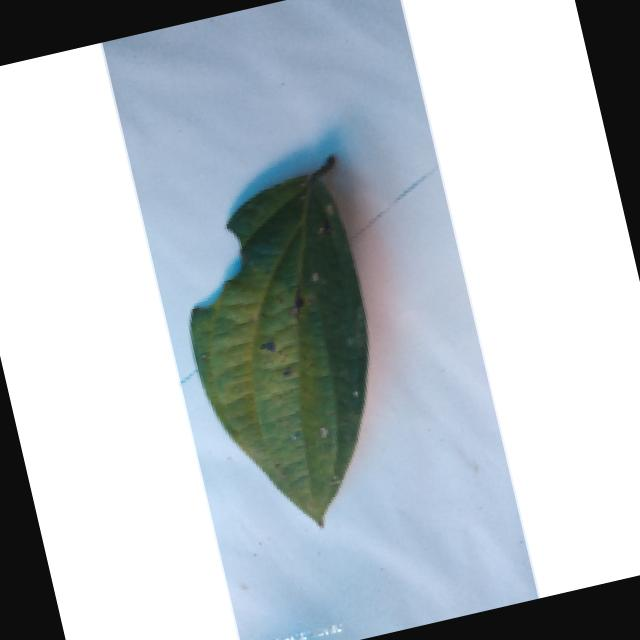slow-decline: (152, 154, 418, 545)
